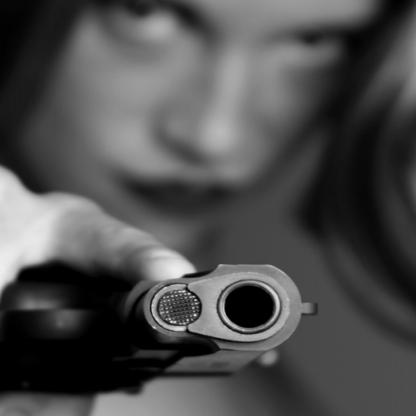gun: (0, 255, 317, 401)
